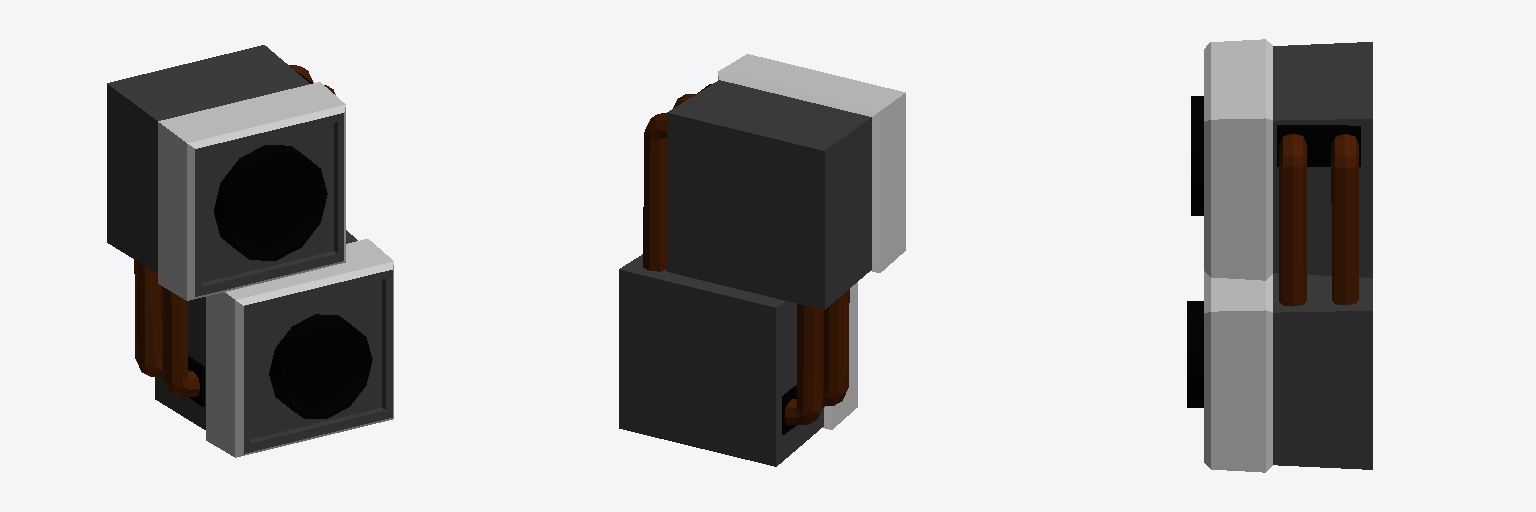
Rendered from AC_Stacked.obj.
The picture shows the model from 3 angles: view 1: azimuth 30°, elevation 25°; view 2: azimuth 150°, elevation 25°; view 3: azimuth 270°, elevation 25°; orthographic projection.
Visible parts, largest first — view 1: AC_Stacked; view 2: AC_Stacked; view 3: AC_Stacked.
Boxes of the visible parts, x1,y1,x2,y2 form: AC_Stacked: [107, 45, 393, 457]; AC_Stacked: [619, 54, 905, 466]; AC_Stacked: [1187, 39, 1372, 472].
Size of the model in its own units: 0.6701 by 1.01 by 0.5115.